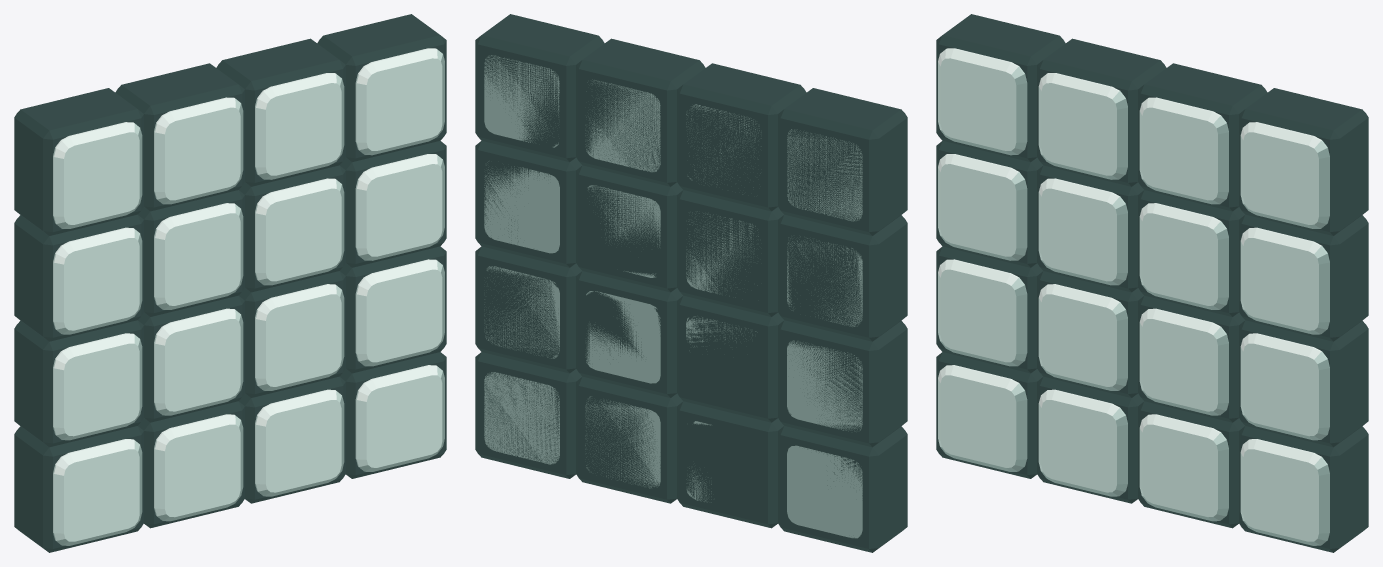
File: Terrain_Block4x4.gltf
The picture shows the model from 3 angles, left to right: view 1: azimuth 30°, elevation 25°; view 2: azimuth 150°, elevation 25°; view 3: azimuth 330°, elevation 25°; orthographic projection.
Parts seen in each view (by area): view 1: Terrain_Block4x4_baked; view 2: Terrain_Block4x4_baked; view 3: Terrain_Block4x4_baked.
Boxes of the visible parts, box(x1,y1,x2,y2) form: Terrain_Block4x4_baked: box(14, 14, 446, 552); Terrain_Block4x4_baked: box(475, 14, 907, 552); Terrain_Block4x4_baked: box(936, 14, 1368, 552).
Size of the model in its own units: 4 by 4 by 0.7.
